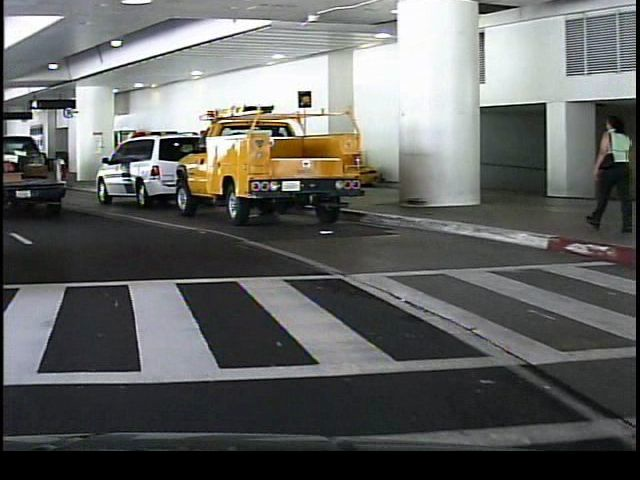person: (583, 109, 633, 236)
